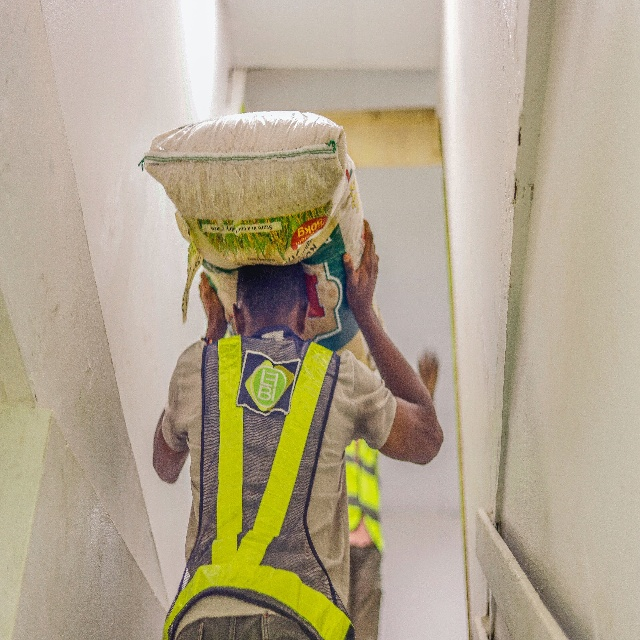Sin_guantes: (342, 218, 379, 322), (198, 271, 226, 333)
